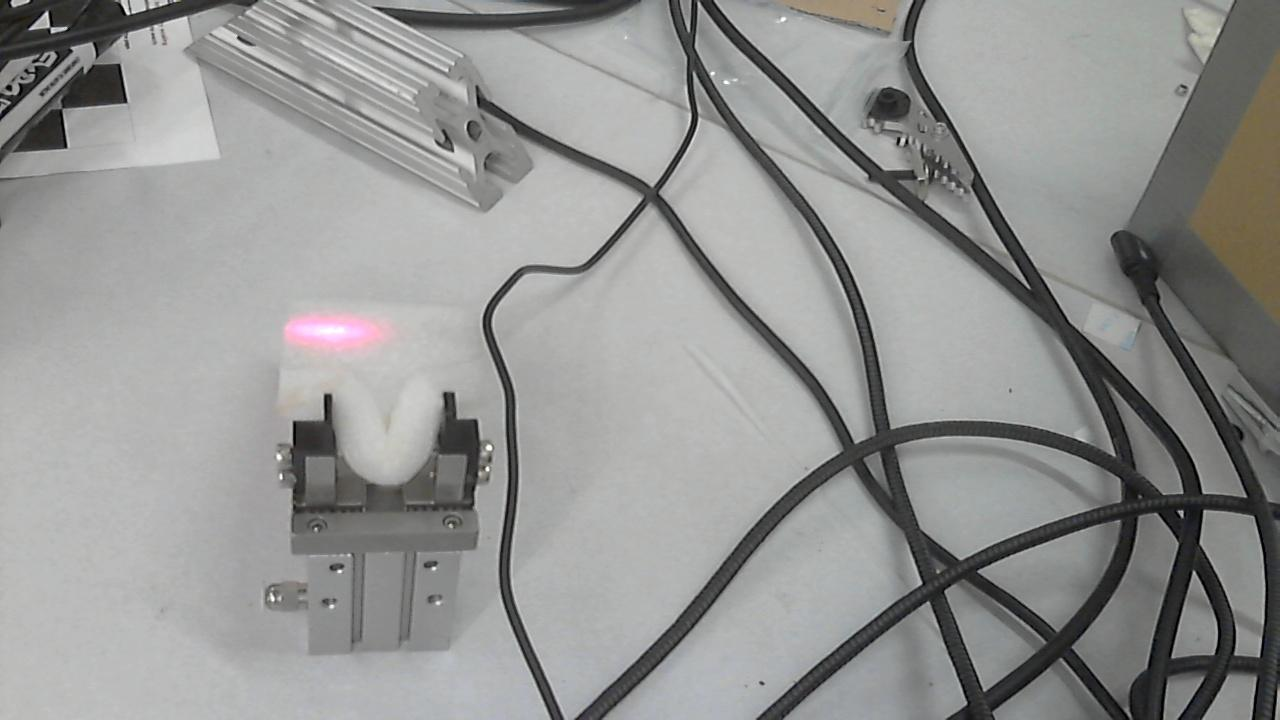Object white rectangular foam block - Material Foam - Color white - Pdfname LpbA: (251, 294, 403, 363)
